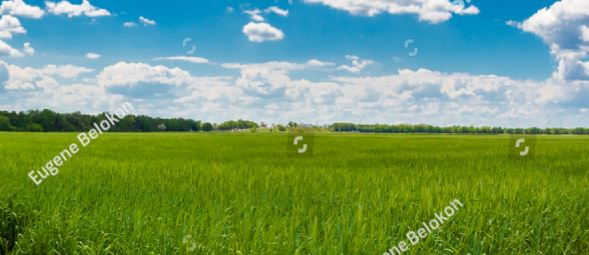Wheat: (20, 196, 240, 255)
